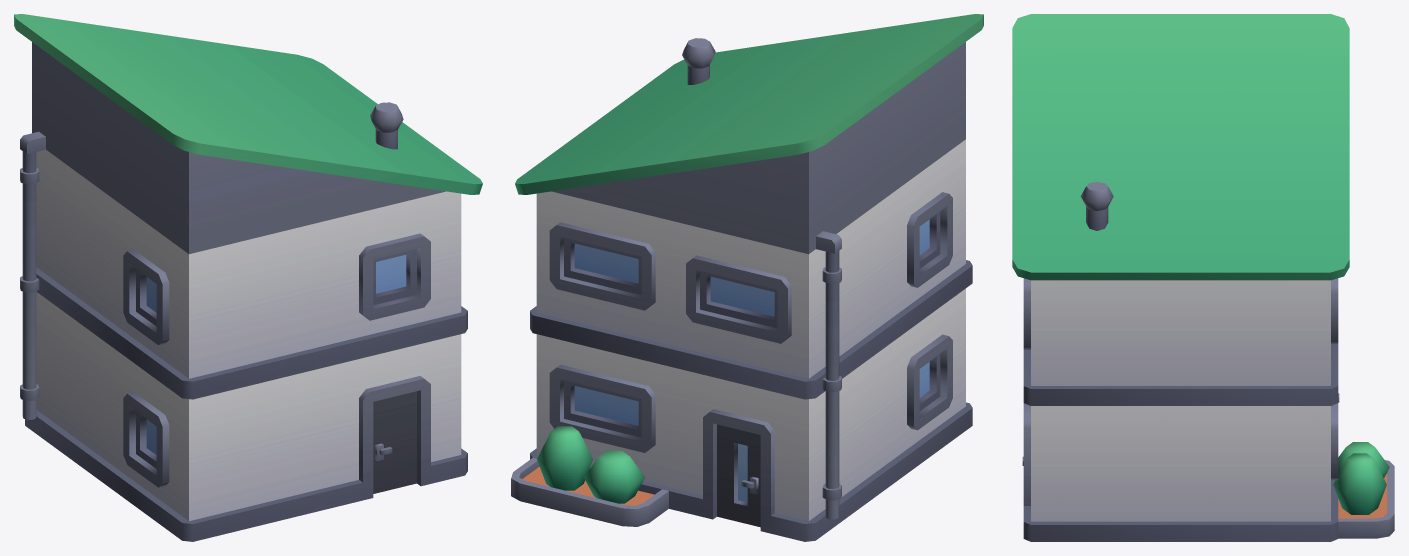
The model's file is suburban-building-type-k.glb.
3 renders of one model, left to right at view 1: azimuth 30°, elevation 25°; view 2: azimuth 150°, elevation 25°; view 3: azimuth 270°, elevation 25°, orthographic. The views are drawn at different scales.
Parts seen in each view (by area): view 1: building-type-k; view 2: building-type-k; view 3: building-type-k.
Boxes of the visible parts, <box> form: building-type-k: <box>14,14,482,541</box>; building-type-k: <box>511,14,983,541</box>; building-type-k: <box>1012,14,1394,541</box>.
Size of the model in its own units: 0.921 by 1.15 by 1.02.
Materials: 1 (1 with a texture image).
